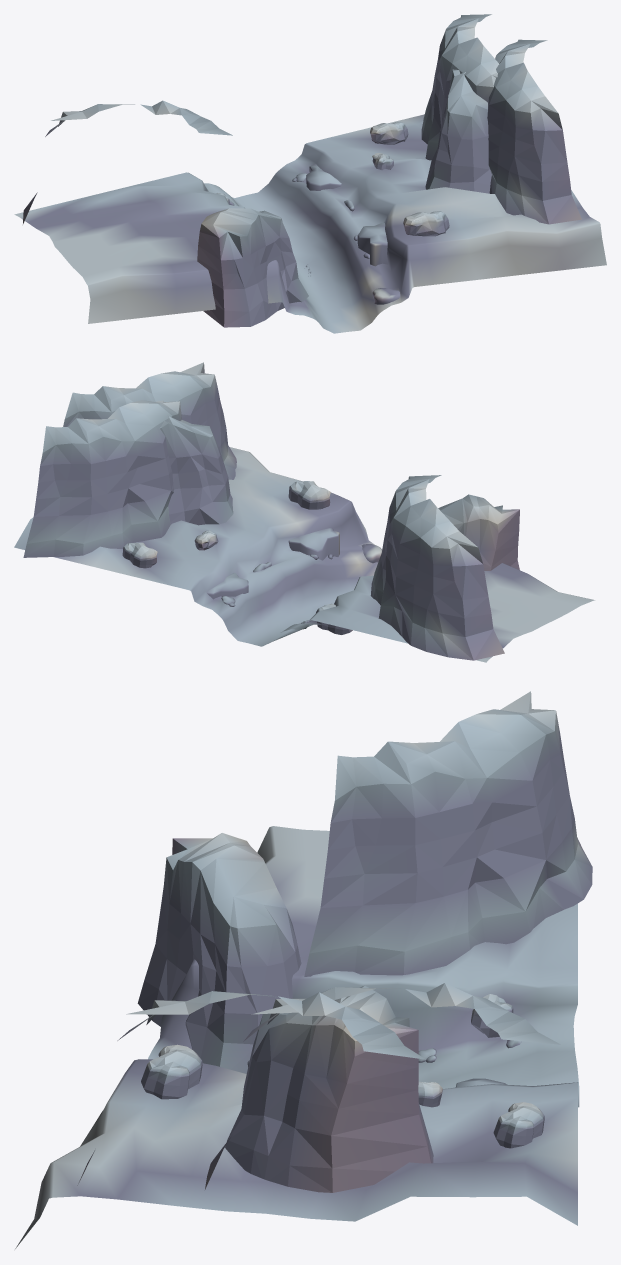
The model's file is Arctic_Luge_Curve_Right_15_A.glb.
The picture shows the model from 3 angles, top to bottom: view 1: azimuth 30°, elevation 25°; view 2: azimuth 150°, elevation 25°; view 3: azimuth 270°, elevation 25°; orthographic projection. The views are drawn at different scales.
Parts seen in each view (by area): view 1: Arctic_Luge_Curve_Right_15_A, Arctic_Luge_IceWall_prop (2), Arctic_Luge_LargeIceRock_prop (1), Arctic_Luge_LargeIceRock_prop, Arctic_Luge_IceWall_prop (1), Arctic_Luge_IceWall_prop, Arctic_Luge_SmallIceRock_prop (2), Arctic_Luge_SmallIceRock_prop; view 2: Arctic_Luge_Curve_Right_15_A, Arctic_Luge_IceWall_prop (1), Arctic_Luge_IceWall_prop, Arctic_Luge_IceWall_prop (2), Arctic_Luge_LargeIceRock_prop, Arctic_Luge_LargeIceRock_prop (1), Arctic_Luge_SmallIceRock_prop (2), Arctic_Luge_SmallIceRock_prop; view 3: Arctic_Luge_Curve_Right_15_A, Arctic_Luge_IceWall_prop, Arctic_Luge_LargeIceRock_prop, Arctic_Luge_LargeIceRock_prop (1), Arctic_Luge_IceWall_prop (2), Arctic_Luge_IceWall_prop (1), Arctic_Luge_SmallIceRock_prop (2), Arctic_Luge_SmallIceRock_prop.
Boxes of the visible parts, x1=… form: Arctic_Luge_Curve_Right_15_A: x1=14, y1=114, x2=606, y2=333; Arctic_Luge_IceWall_prop (2): x1=487, y1=39, x2=581, y2=224; Arctic_Luge_LargeIceRock_prop (1): x1=197, y1=208, x2=308, y2=327; Arctic_Luge_LargeIceRock_prop: x1=425, y1=69, x2=491, y2=193; Arctic_Luge_IceWall_prop (1): x1=421, y1=14, x2=498, y2=160; Arctic_Luge_IceWall_prop: x1=23, y1=100, x2=232, y2=223; Arctic_Luge_SmallIceRock_prop (2): x1=403, y1=211, x2=449, y2=236; Arctic_Luge_SmallIceRock_prop: x1=370, y1=121, x2=408, y2=144; Arctic_Luge_Curve_Right_15_A: x1=14, y1=447, x2=594, y2=662; Arctic_Luge_IceWall_prop (1): x1=23, y1=400, x2=181, y2=557; Arctic_Luge_IceWall_prop: x1=370, y1=475, x2=504, y2=660; Arctic_Luge_IceWall_prop (2): x1=63, y1=362, x2=236, y2=479; Arctic_Luge_LargeIceRock_prop: x1=160, y1=416, x2=233, y2=525; Arctic_Luge_LargeIceRock_prop (1): x1=438, y1=494, x2=519, y2=570; Arctic_Luge_SmallIceRock_prop (2): x1=288, y1=481, x2=330, y2=509; Arctic_Luge_SmallIceRock_prop: x1=122, y1=542, x2=157, y2=568; Arctic_Luge_Curve_Right_15_A: x1=15, y1=826, x2=579, y2=1248; Arctic_Luge_IceWall_prop: x1=304, y1=691, x2=592, y2=976; Arctic_Luge_LargeIceRock_prop: x1=225, y1=985, x2=433, y2=1192; Arctic_Luge_LargeIceRock_prop (1): x1=137, y1=833, x2=301, y2=1073; Arctic_Luge_IceWall_prop (2): x1=77, y1=991, x2=425, y2=1185; Arctic_Luge_IceWall_prop (1): x1=205, y1=983, x2=560, y2=1189; Arctic_Luge_SmallIceRock_prop (2): x1=141, y1=1044, x2=202, y2=1099; Arctic_Luge_SmallIceRock_prop: x1=493, y1=1102, x2=544, y2=1148.
Bounding box in the file's own units: 27.51 × 9.87 × 16.87.
